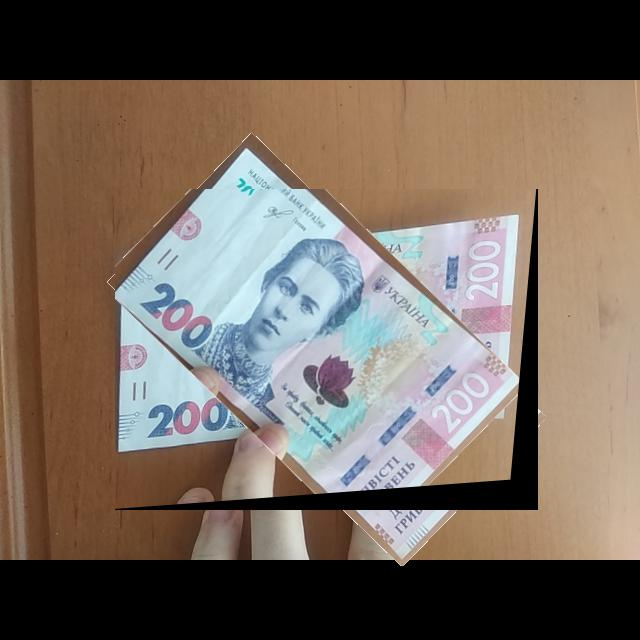200uah: (115, 189, 539, 511)
